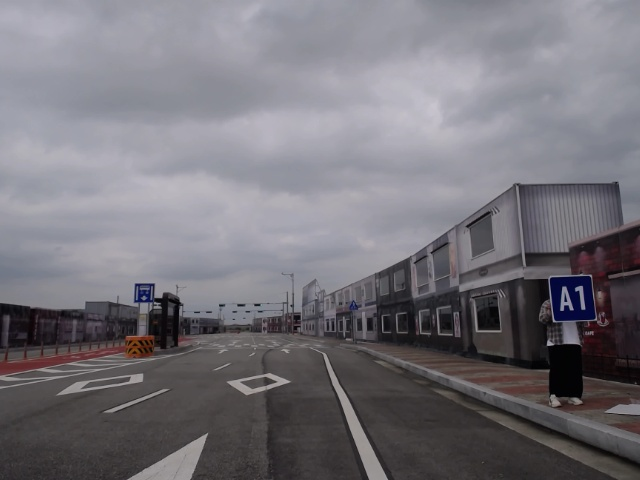delivery_a1: (549, 274, 597, 322)
